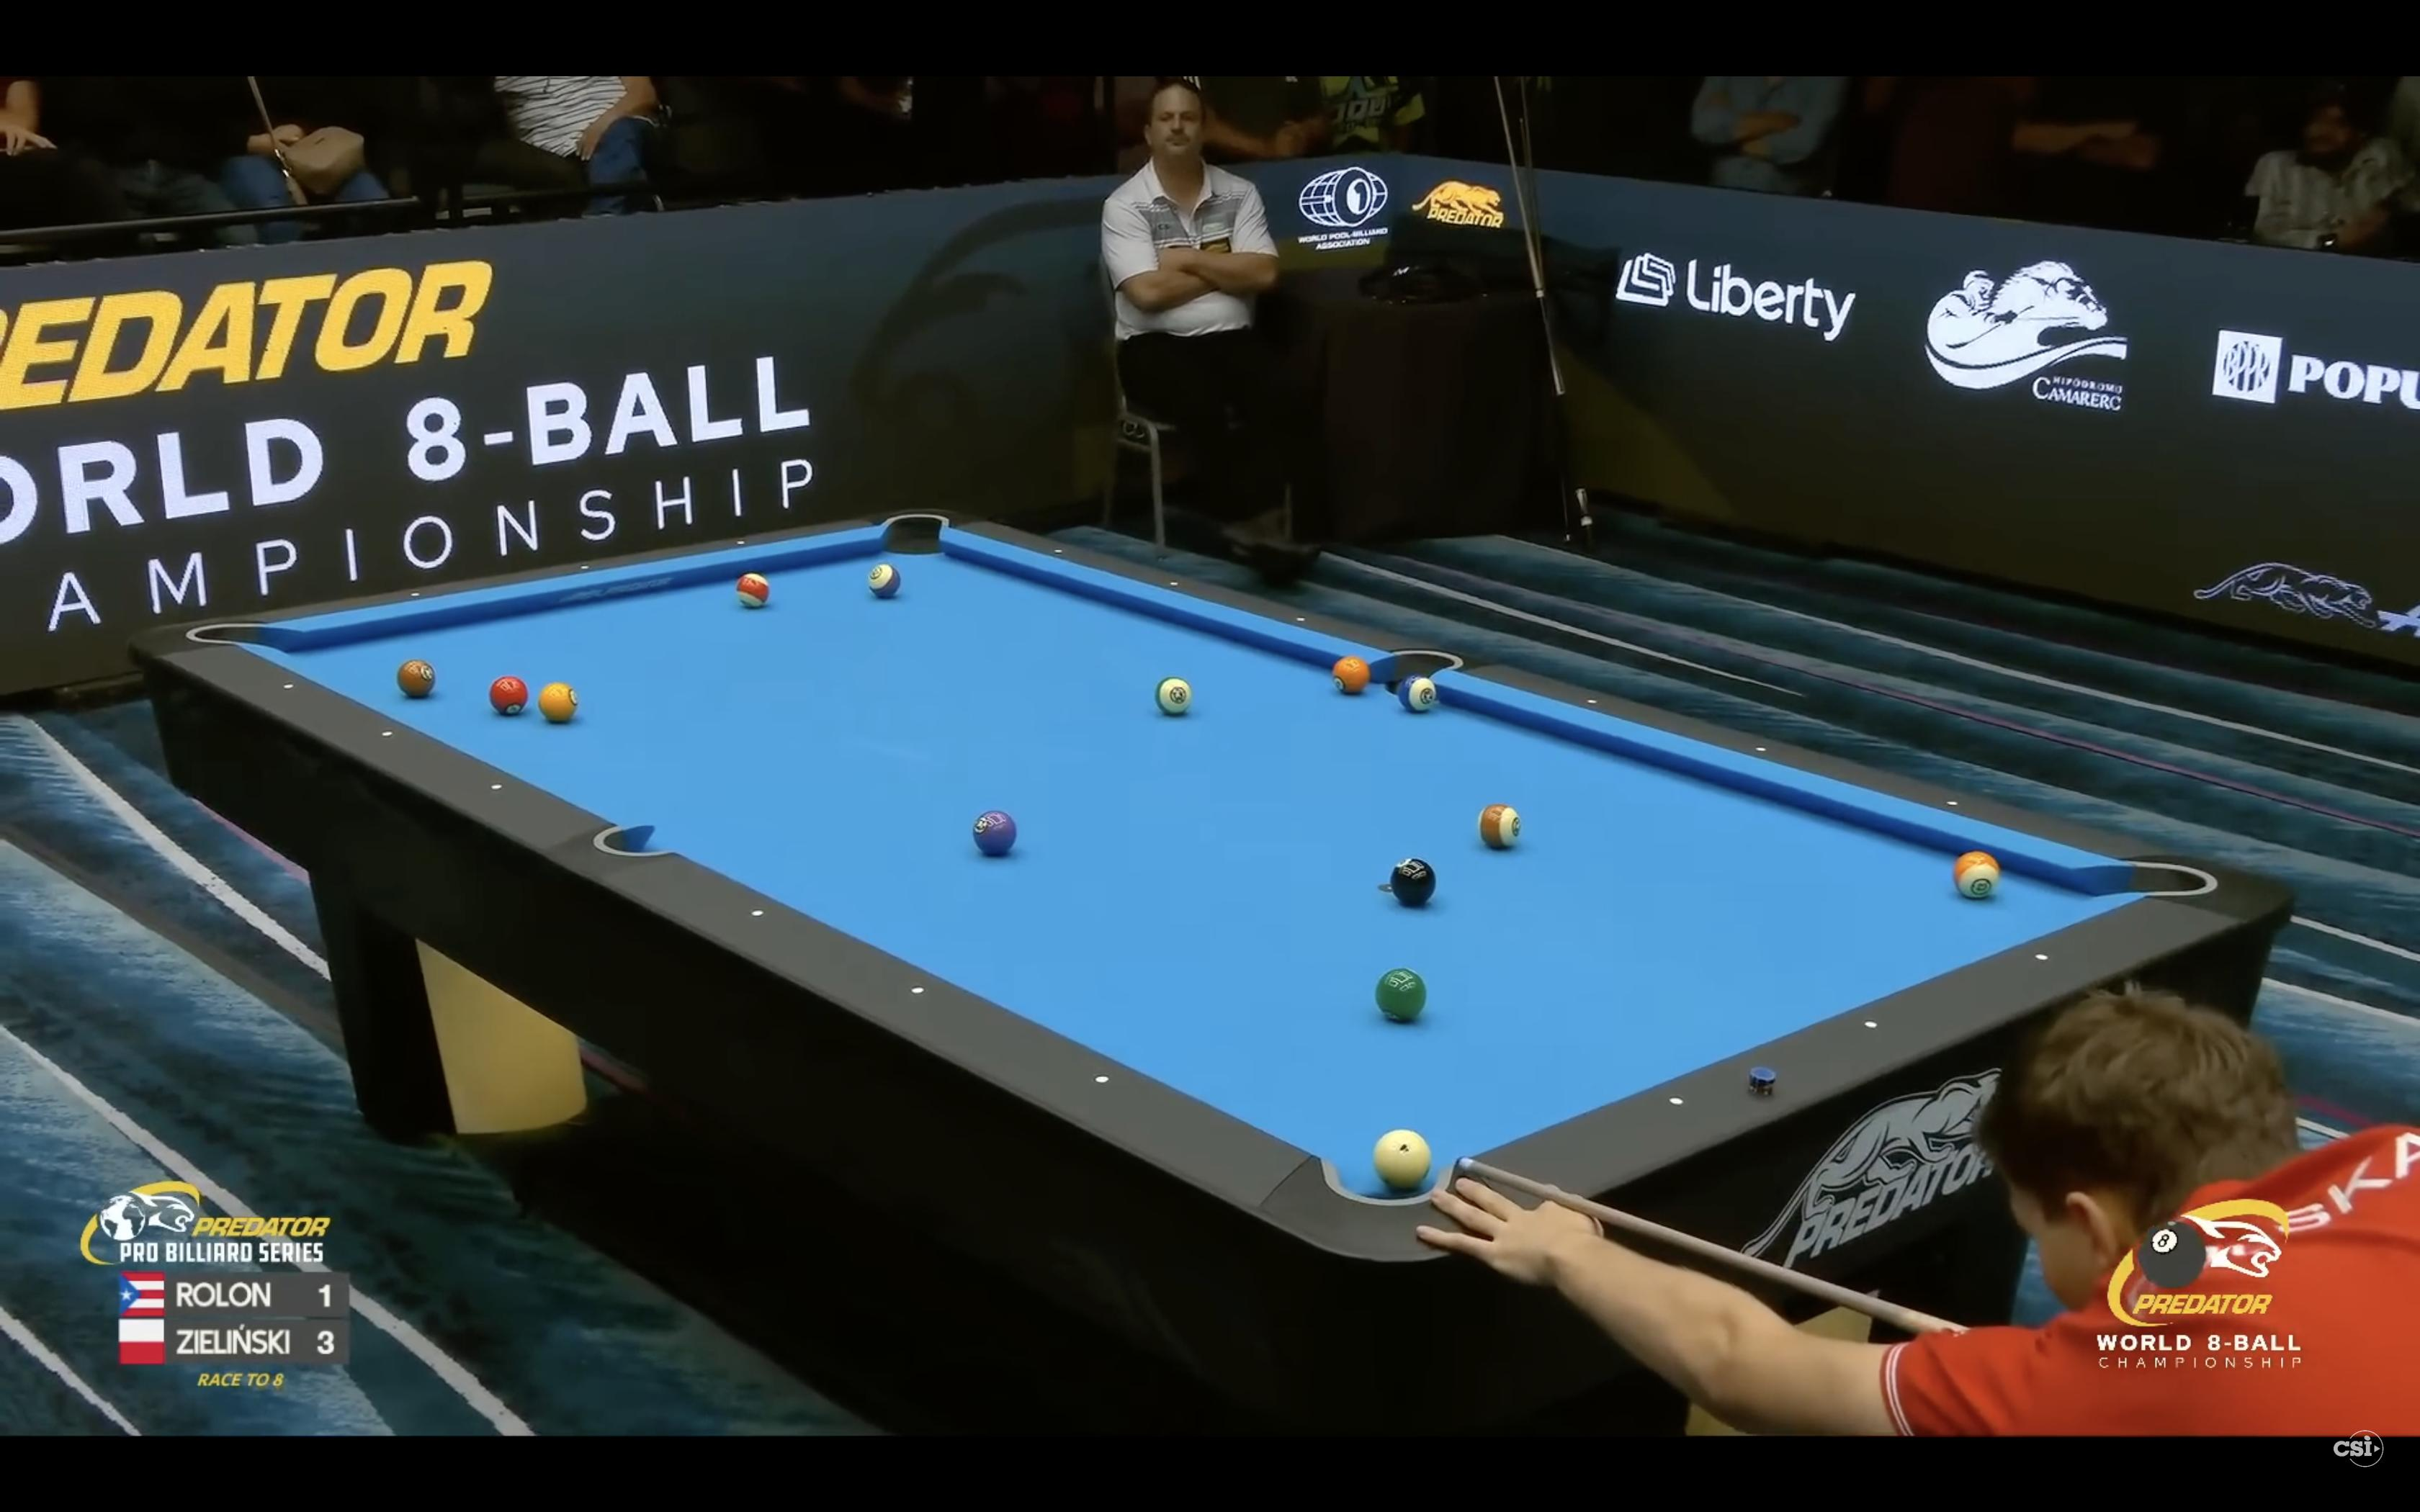Black: (1392, 859, 1436, 904)
Cue: (1375, 1129, 1432, 1190)
Dot: (1094, 1075, 1110, 1083), (909, 986, 925, 995), (2035, 953, 2049, 962), (1864, 1021, 1878, 1029), (1669, 1097, 1683, 1106), (382, 730, 394, 739), (751, 909, 765, 916), (491, 784, 504, 791), (284, 683, 294, 690), (1946, 801, 1958, 807), (409, 592, 420, 597), (735, 540, 746, 545), (1587, 699, 1598, 704), (1756, 747, 1767, 753), (580, 564, 589, 570), (1054, 549, 1063, 554), (1296, 617, 1305, 622), (1171, 582, 1178, 587)
Solid: (1376, 969, 1427, 1023), (974, 810, 1017, 854), (538, 683, 578, 723), (490, 676, 528, 716), (1333, 655, 1369, 695), (397, 660, 436, 697)
Striped: (1953, 850, 2000, 899), (1476, 803, 1521, 848), (1397, 674, 1436, 712), (1155, 676, 1192, 716), (737, 573, 770, 608), (868, 563, 901, 597)
